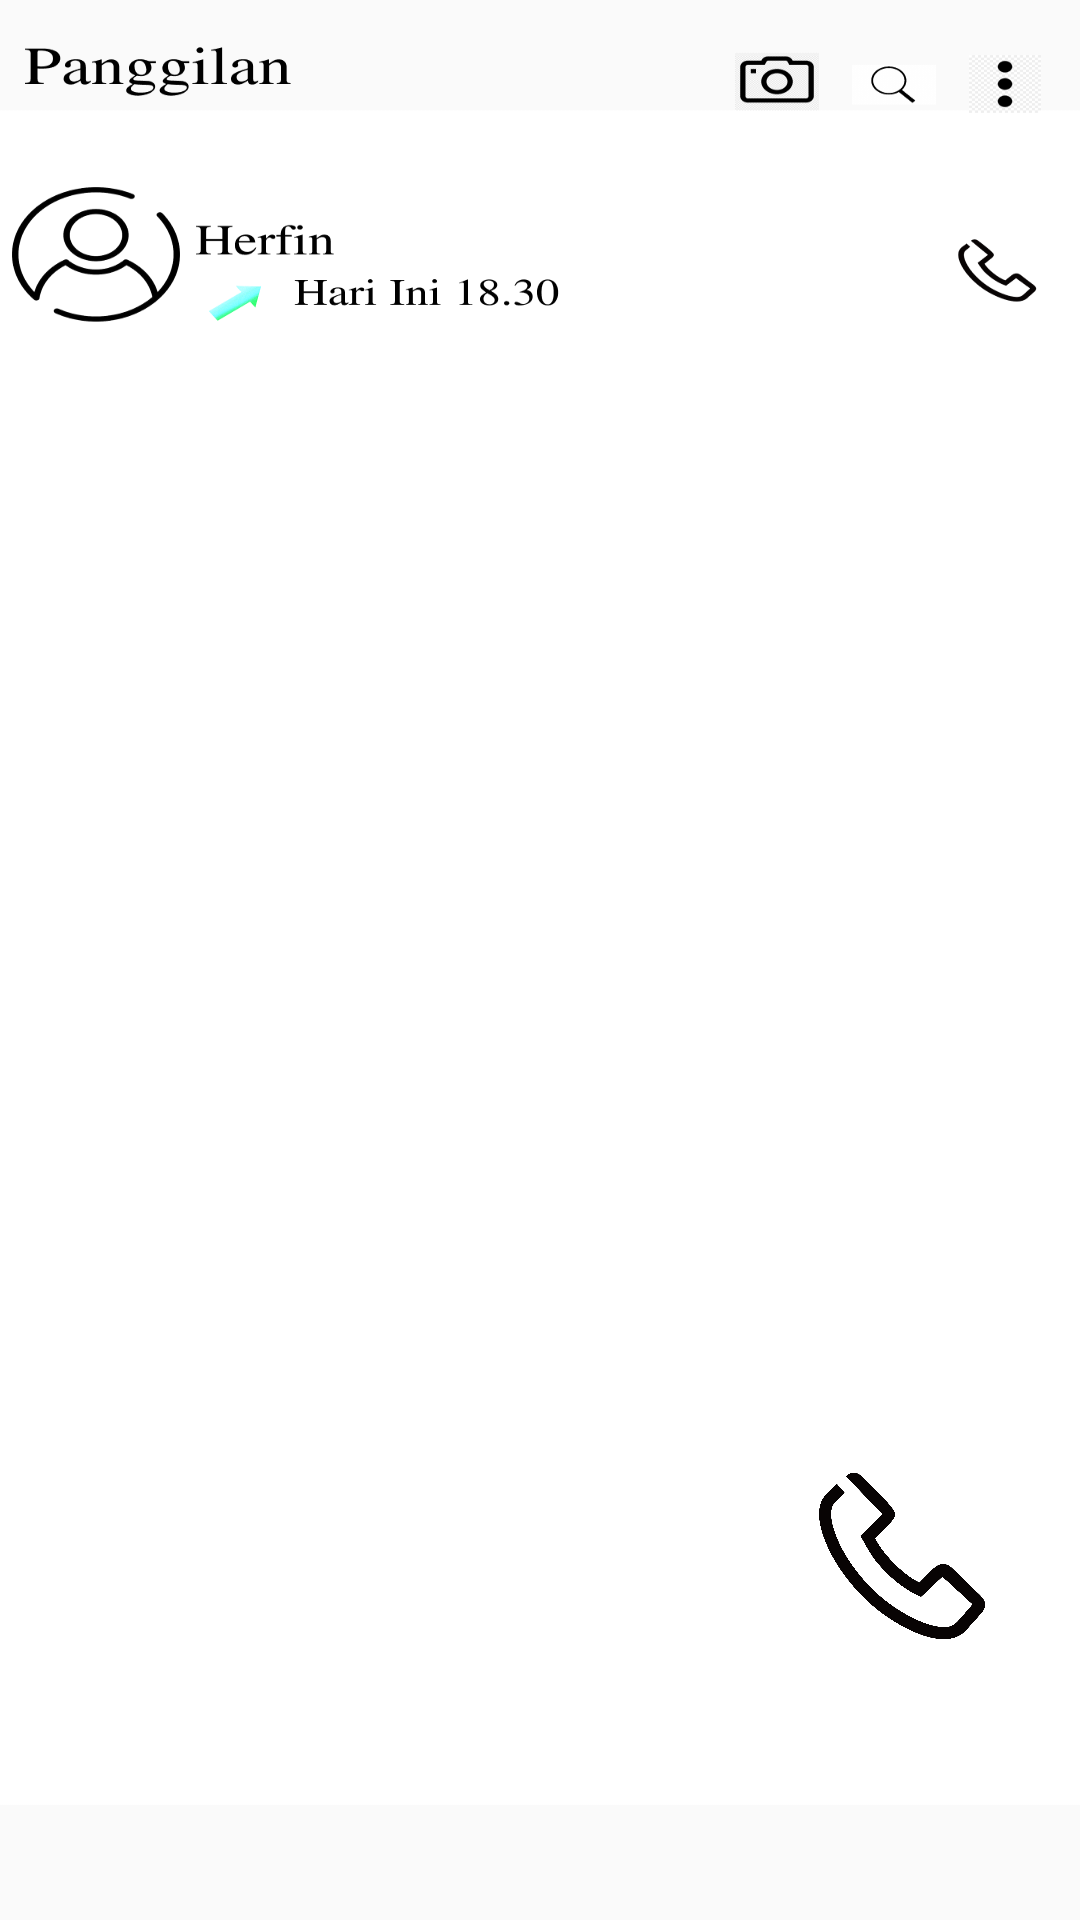

Icon bounding boxes for this 1080×1920 phone screenshot, format region(x1, y1, x2, y2):
callwa: region(819, 1473, 985, 1639)
